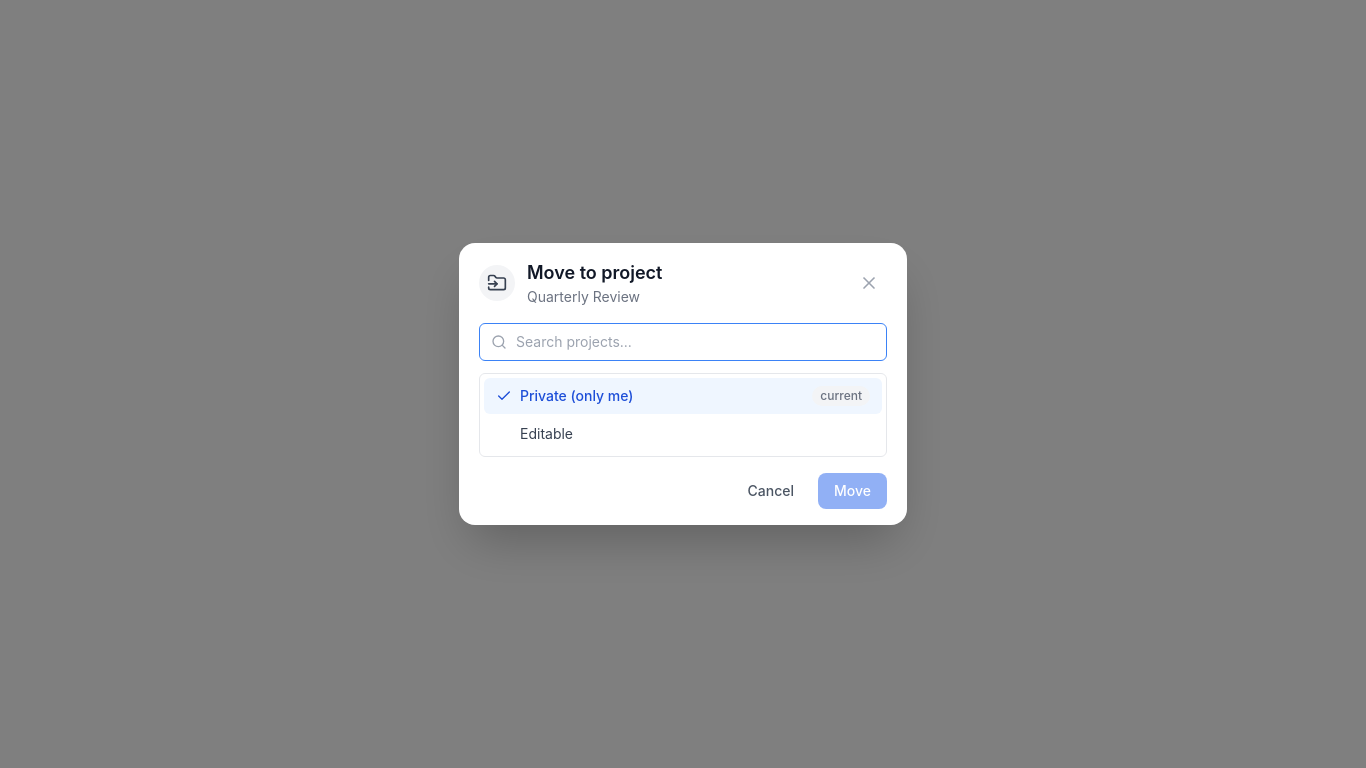
Test: MoveToProjectModal list contents › shows an empty message when no project matches the search
Step 1. Type "zzz" into the field labelled "Search projects" → (683, 342), box [479,323,887,361]
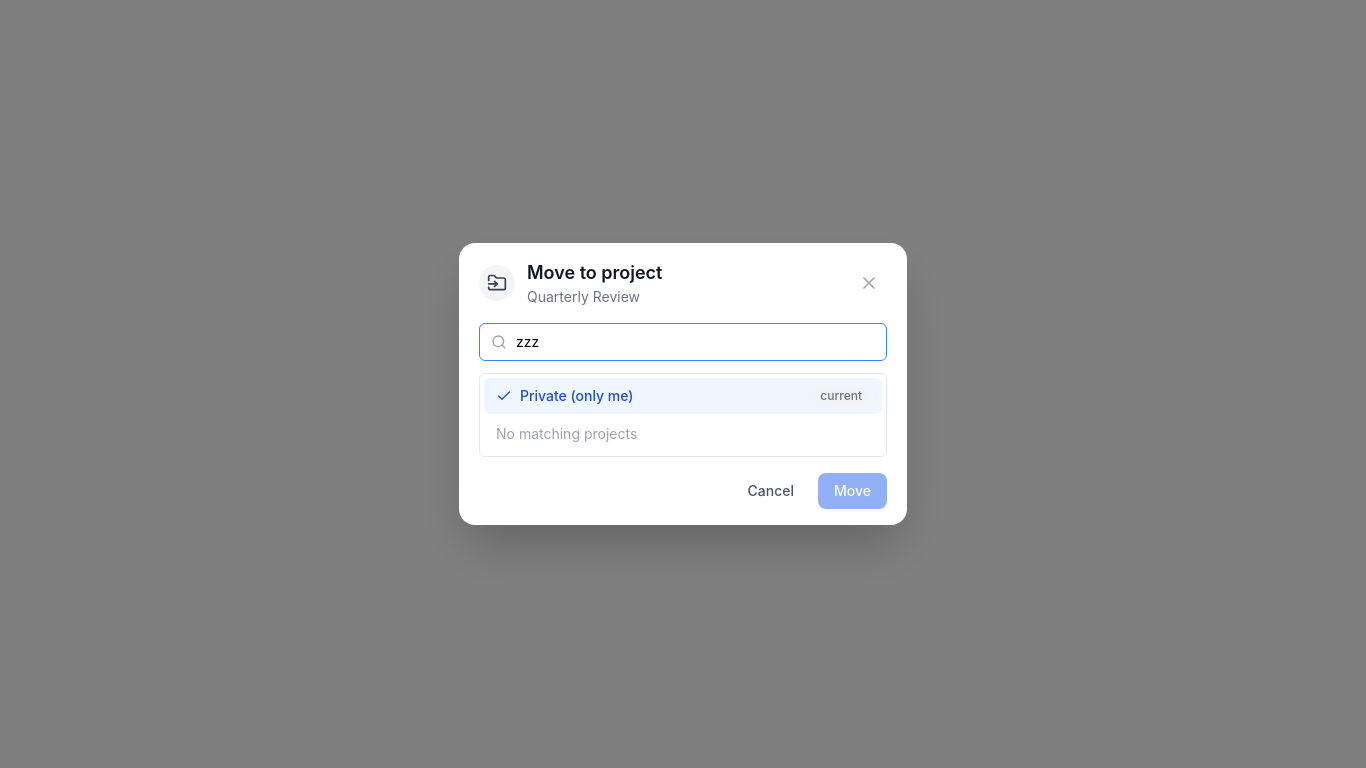
Now the text "No matching projects" is shown, box [496,425,637,442]
